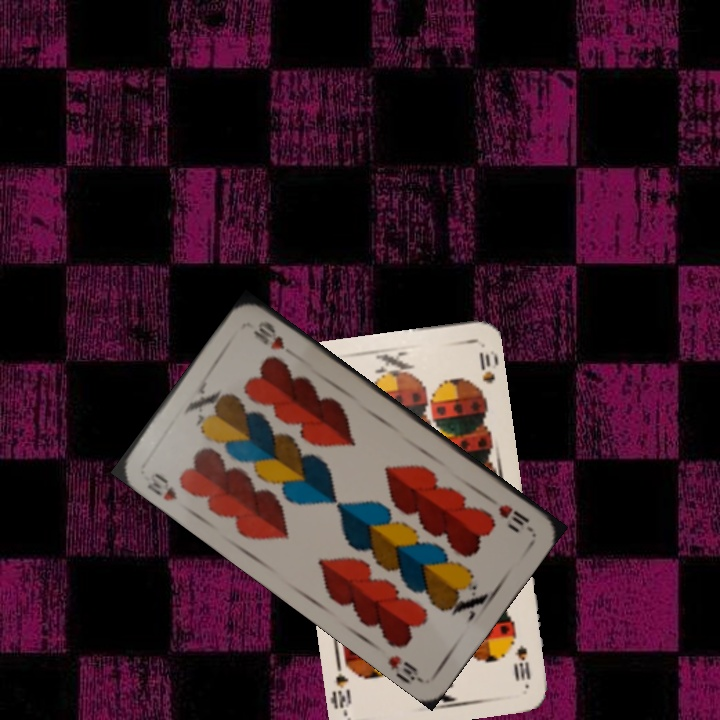H10: (141, 468, 180, 504), (494, 500, 532, 529)
S10: (511, 641, 533, 684)
